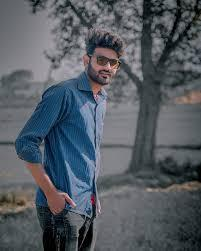Human: (27, 13, 139, 249)
